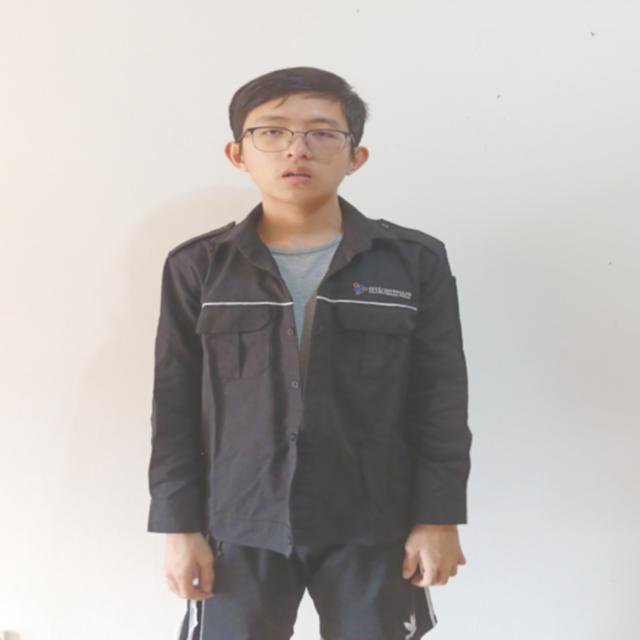person_with_labcoat: (148, 68, 471, 640)
